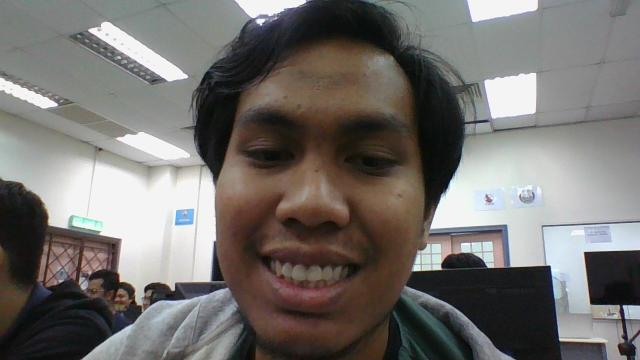senang: (216, 25, 428, 339)
